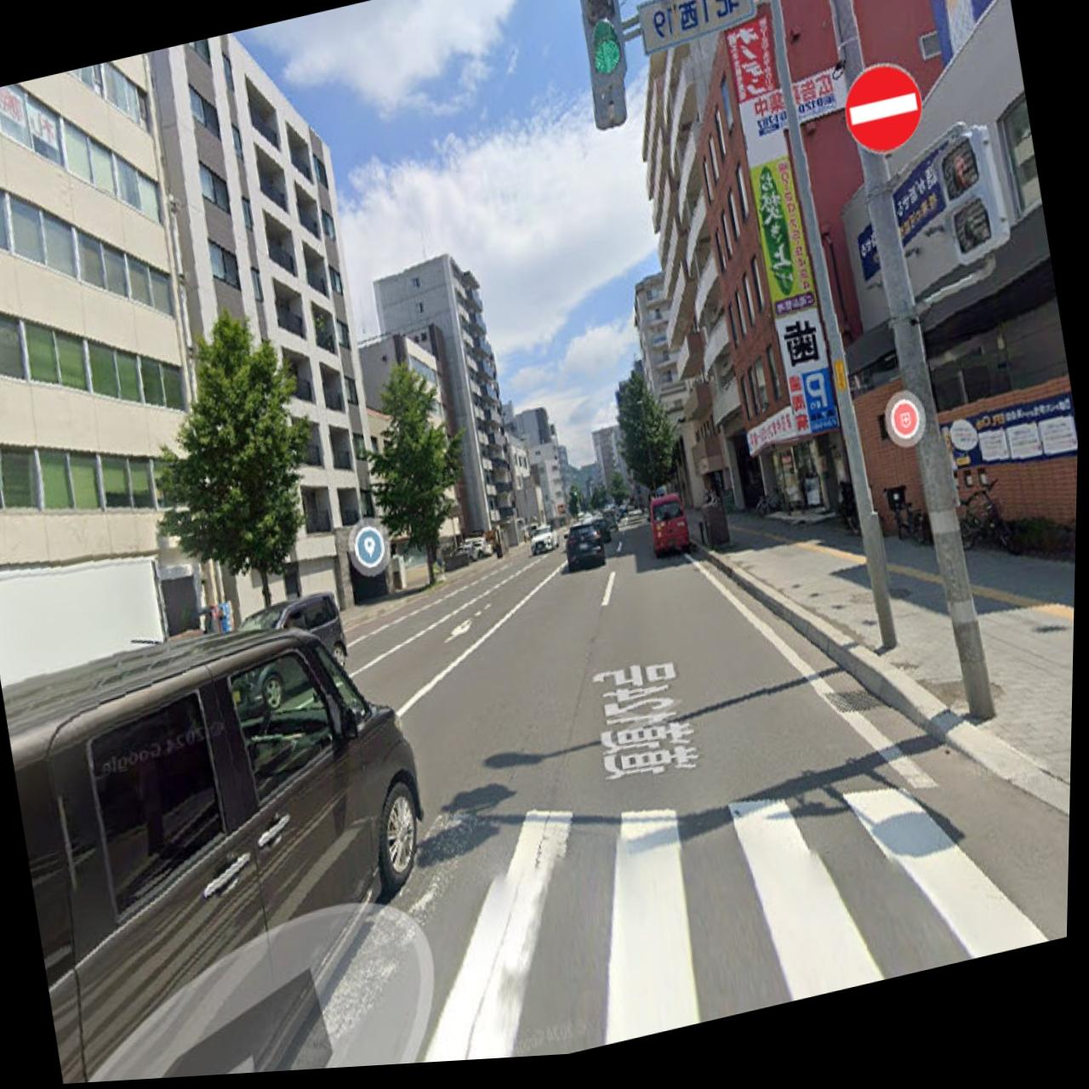barrier: (835, 49, 937, 164)
